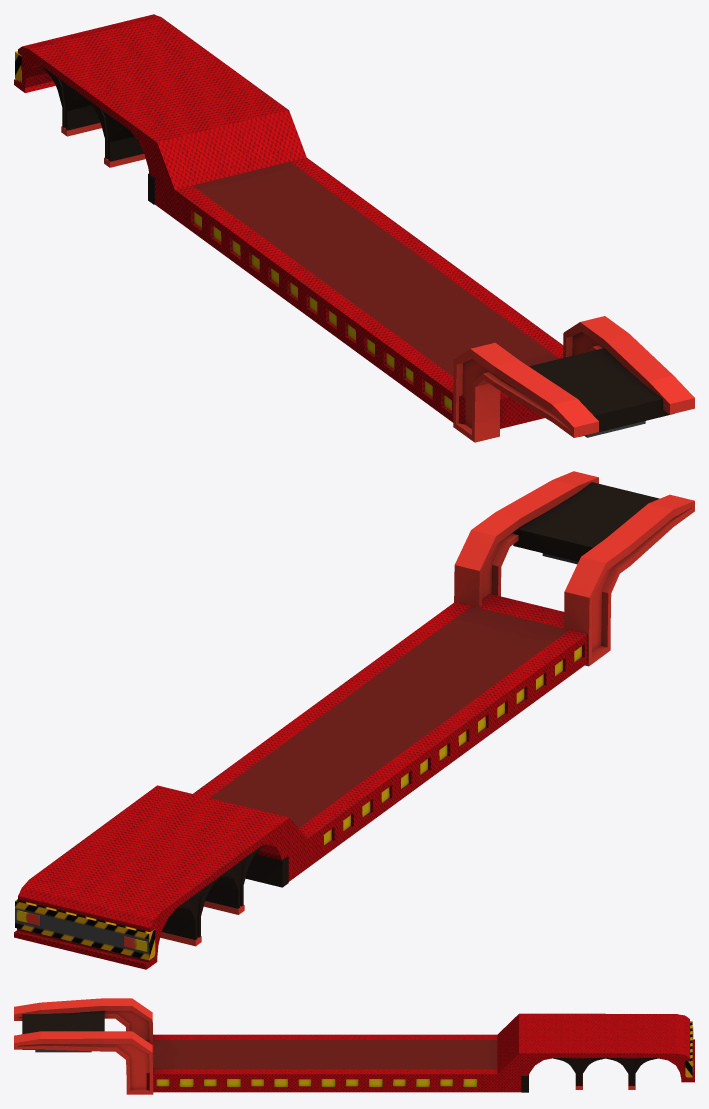
Rendered from lowboytruckk.fbx.
The picture shows the model from 3 angles, top to bottom: view 1: azimuth 30°, elevation 25°; view 2: azimuth 150°, elevation 25°; view 3: azimuth 270°, elevation 25°; orthographic projection. The views are drawn at different scales.
Parts seen in each view (by area): view 1: back; view 2: back; view 3: back.
Boxes of the visible parts, box(x1,y1,x2,y2) form: back: box(14, 14, 694, 442); back: box(14, 471, 694, 969); back: box(14, 998, 694, 1094).
Size of the model in its own units: 283 by 182 by 2012.
